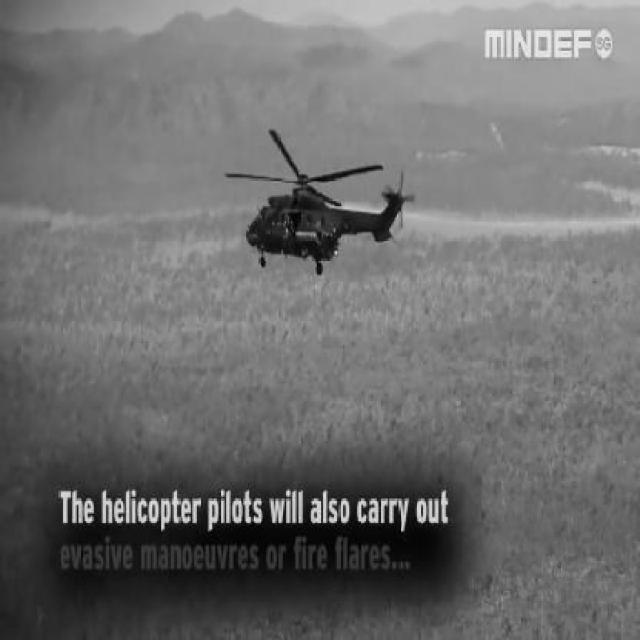Helicopter: (227, 125, 416, 279)
